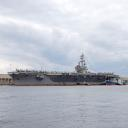Portanaves: (8, 52, 125, 87)
